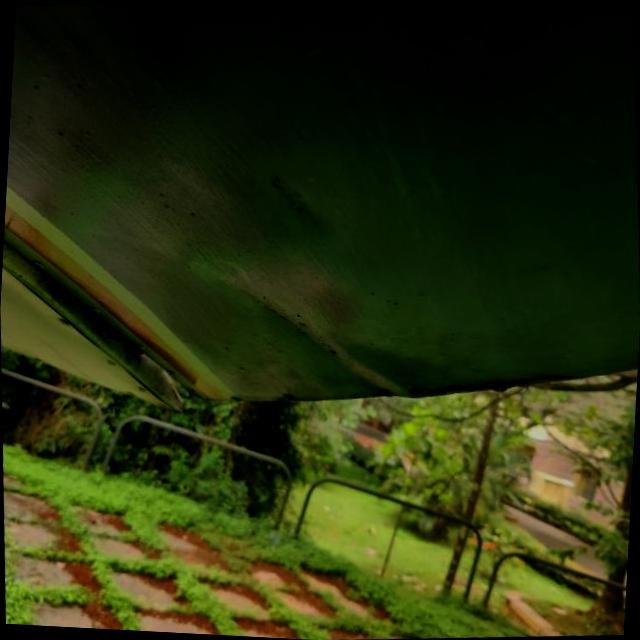dent: (183, 276, 431, 408), (257, 168, 341, 242)
